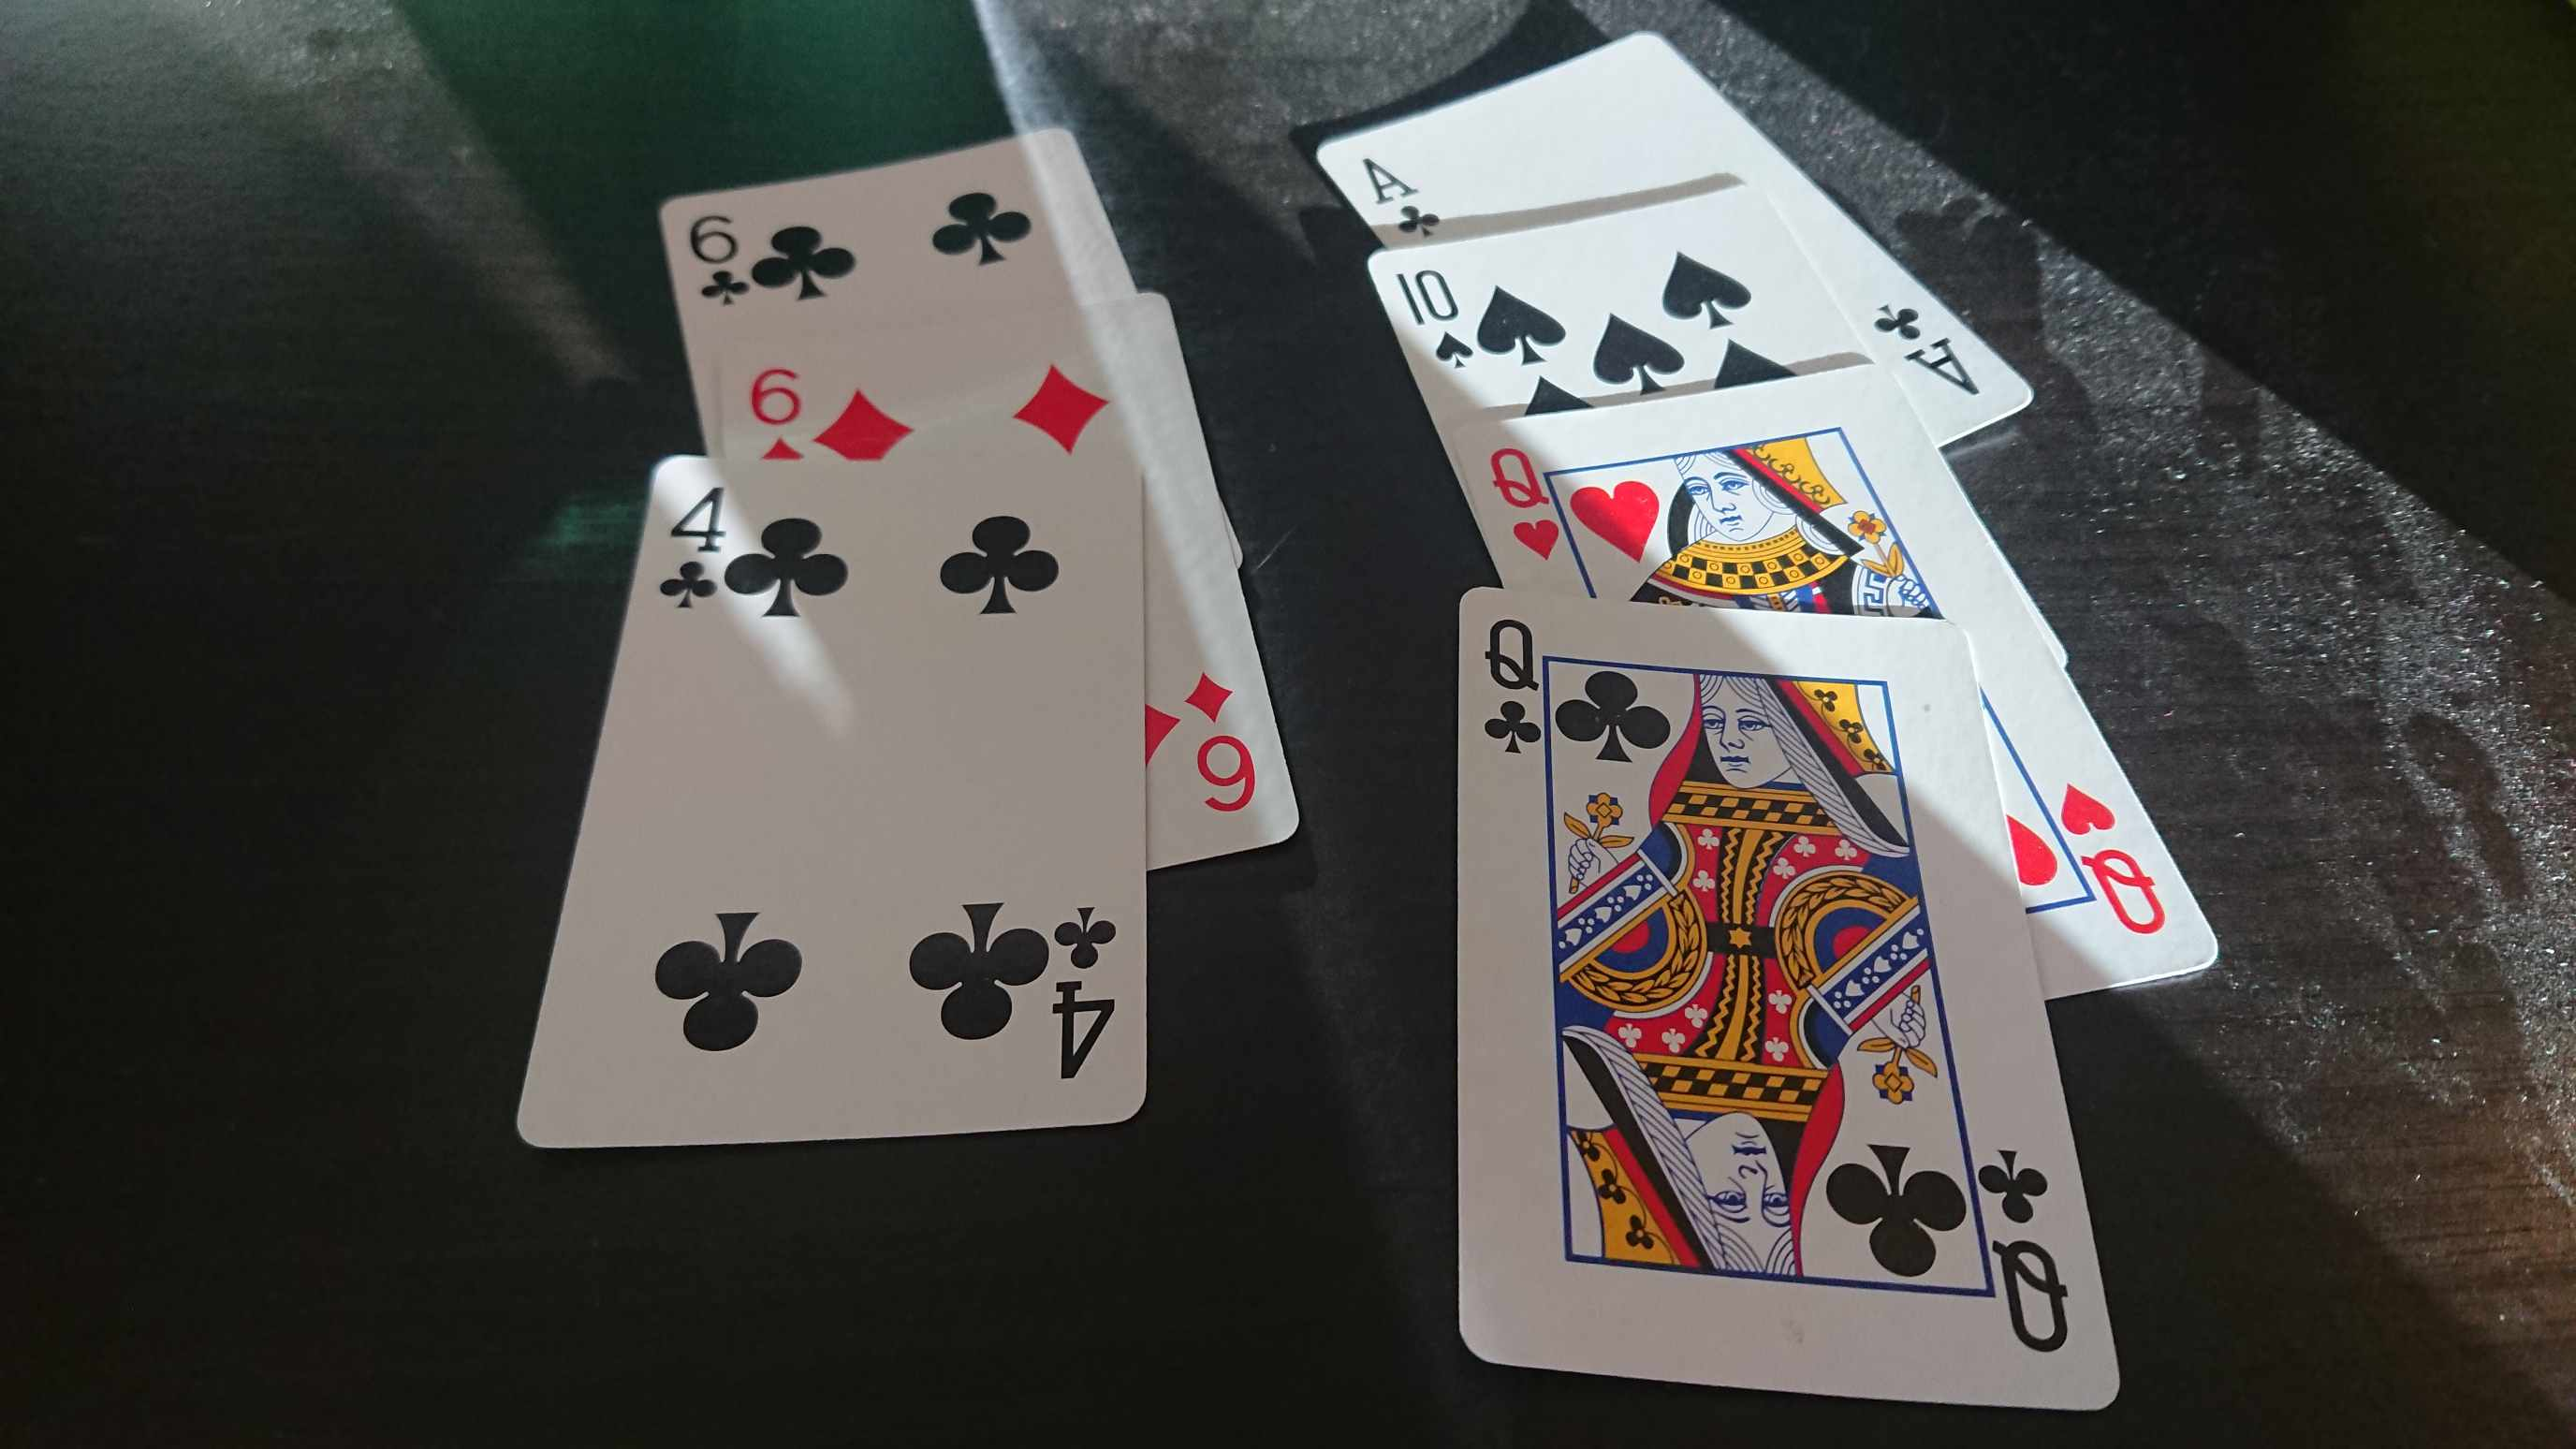10S: (1391, 264, 1474, 373)
4C: (658, 483, 732, 619)
6C: (686, 211, 752, 308)
6D: (747, 361, 812, 460)
AC: (1357, 152, 1445, 242)
QC: (1479, 617, 1548, 759)
QH: (1484, 444, 1562, 564)
